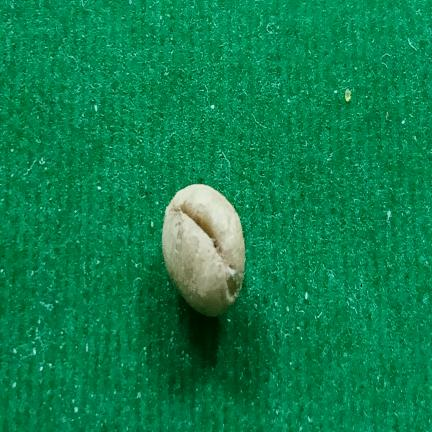good: (162, 185, 245, 316)
